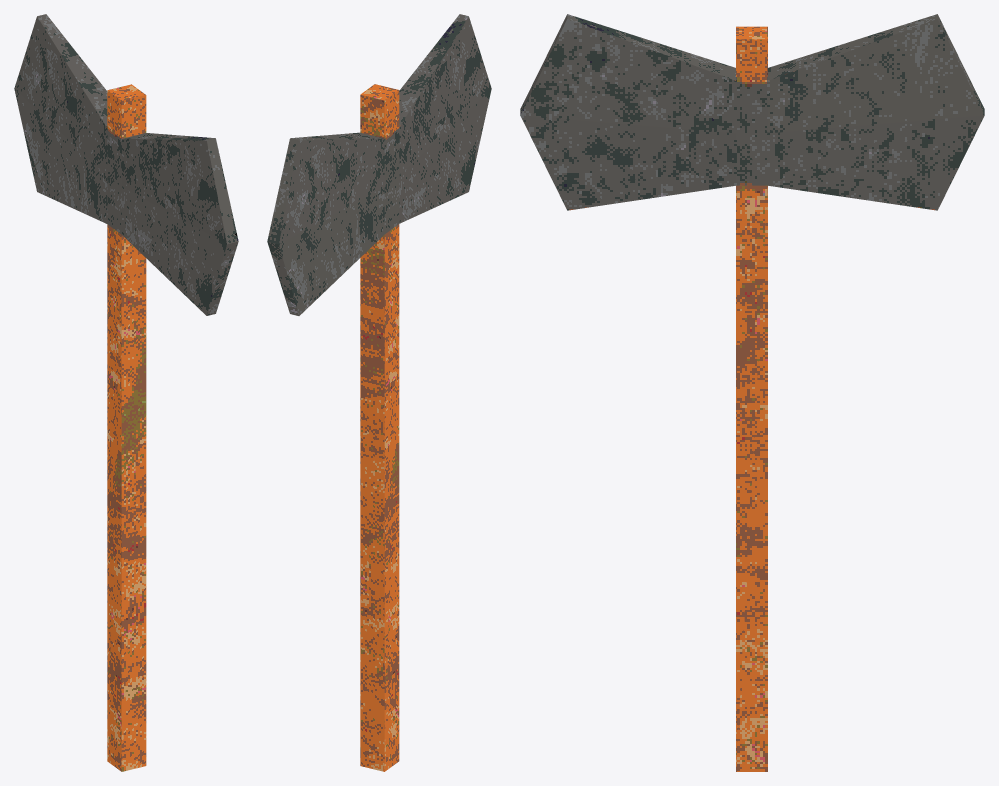
The model's file is PSX_Axe.glb.
The picture shows the model from 3 angles, left to right: view 1: azimuth 30°, elevation 25°; view 2: azimuth 150°, elevation 25°; view 3: azimuth 270°, elevation 25°; orthographic projection. The views are drawn at different scales.
Parts seen in each view (by area): view 1: Cube; view 2: Cube; view 3: Cube.
Boxes of the visible parts, x1,y1,x2,y2 form: Cube: [14, 14, 238, 771]; Cube: [267, 14, 491, 771]; Cube: [520, 14, 984, 771].
Bounding box in the file's own units: 0.0305 × 0.819 × 0.4603.
Materials: 1 (1 with a texture image).
